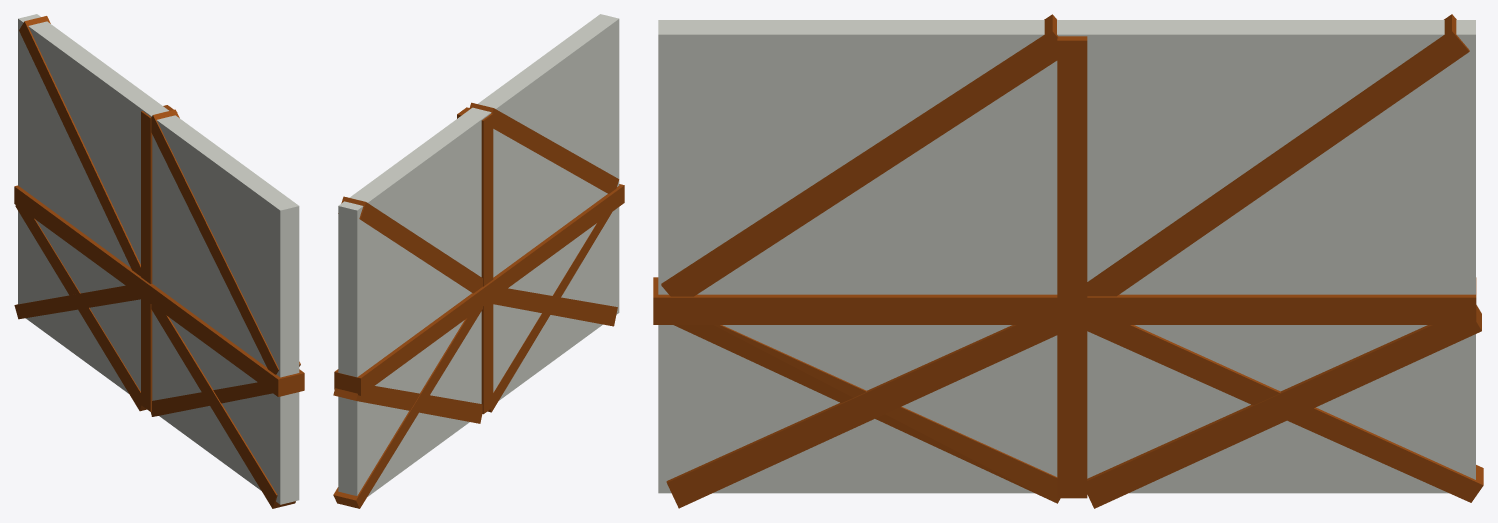
The model's file is NormalWall7.fbx.
3 renders of one model, left to right at view 1: azimuth 30°, elevation 25°; view 2: azimuth 150°, elevation 25°; view 3: azimuth 270°, elevation 25°, orthographic. The views are drawn at different scales.
Visible parts, largest first — view 1: NormalWall7; view 2: NormalWall7; view 3: NormalWall7.
Boxes of the visible parts, box(x1,y1,x2,y2) form: NormalWall7: box(14, 14, 304, 508); NormalWall7: box(333, 14, 624, 508); NormalWall7: box(653, 14, 1483, 508).
Size of the model in its own units: 113 by 1155 by 1822.
